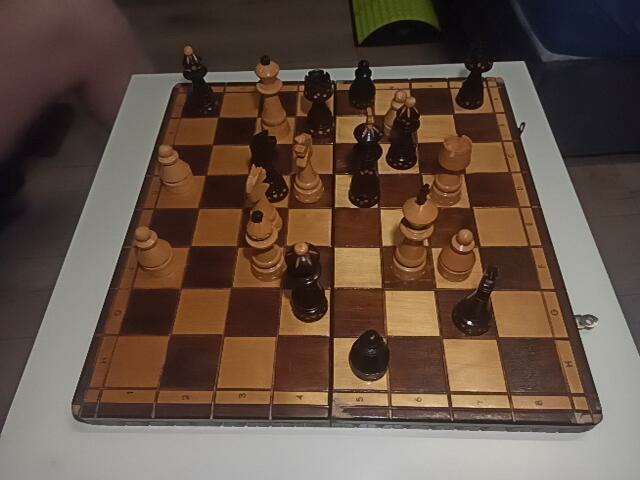B-Bishop: (181, 45, 218, 116), (387, 97, 420, 169)
B-King: (348, 107, 384, 208)
B-Knight: (450, 266, 503, 335), (249, 130, 290, 204)
B-Pawn: (348, 331, 390, 380), (349, 61, 376, 110)
B-Queen: (285, 242, 329, 322)
B-Rook: (457, 40, 494, 109), (304, 70, 335, 139)
W-Bishop: (244, 212, 284, 283)
W-King: (390, 184, 438, 282)
W-Knight: (244, 165, 284, 239), (290, 134, 325, 203)
W-Pawn: (438, 228, 476, 283), (134, 227, 175, 276), (157, 145, 193, 198), (384, 91, 416, 141)
W-Queen: (254, 56, 292, 140)
W-Rook: (431, 134, 471, 206)
